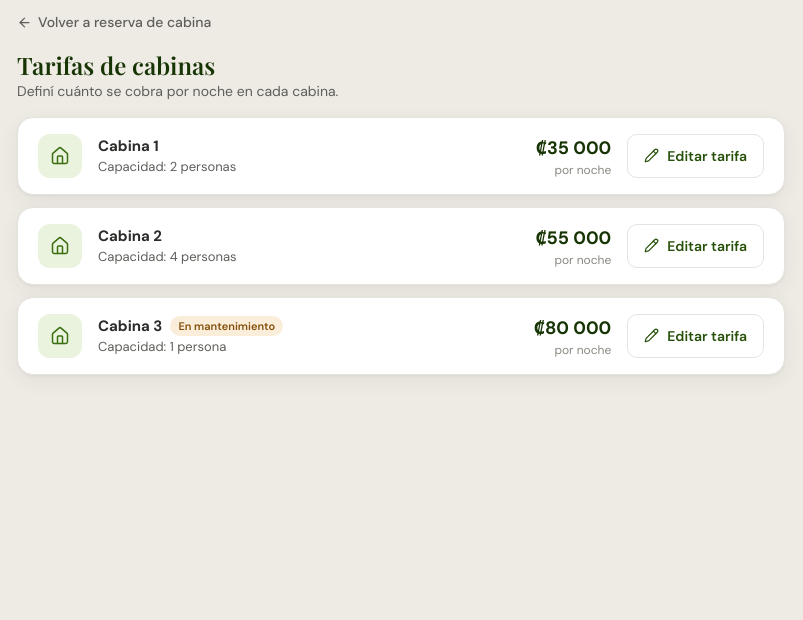
it: HU-128 pantalla Tarifas de cabinas › CA-2: si el backend rechaza la tarifa (422), el mensaje aparece en el campo y se conserva lo escrito
This screenshot has width=803, height=620.
Click the button "Editar tarifa" next to "₡55 000" at [696, 246], box x1=627 y1=224 x2=764 y2=268
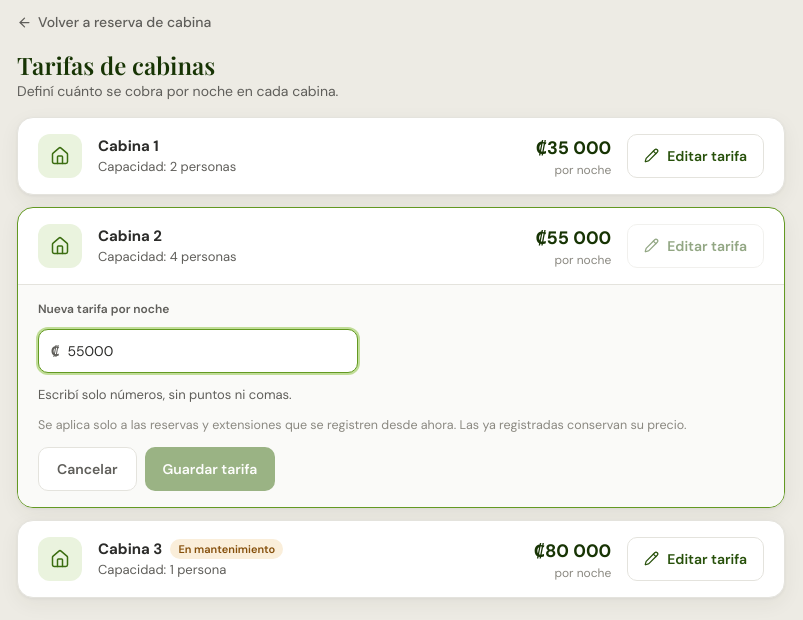
Replace the text in the field labelled "Nueva tarifa por noche" with "70000" at [206, 350], box x1=67 y1=340 x2=345 y2=360
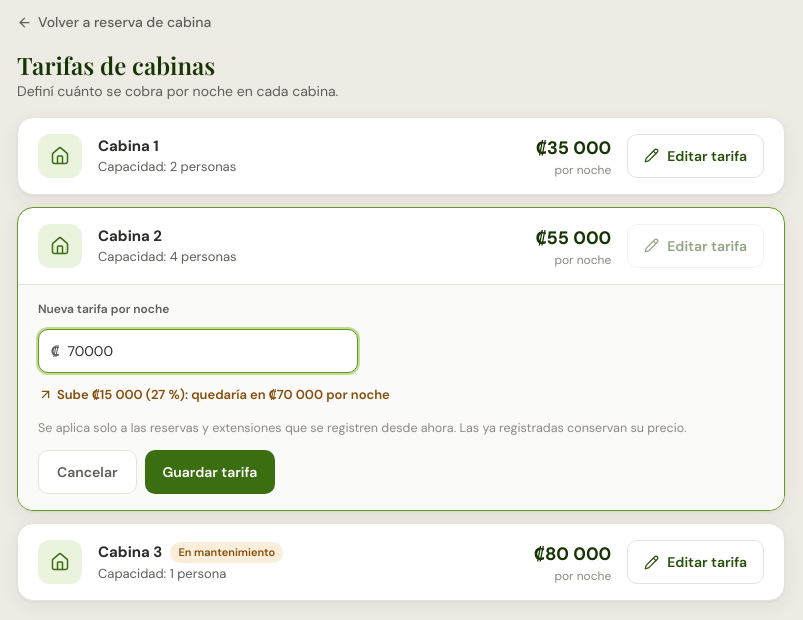
Click the button "Guardar tarifa" at [210, 472], box x1=144 y1=450 x2=275 y2=494
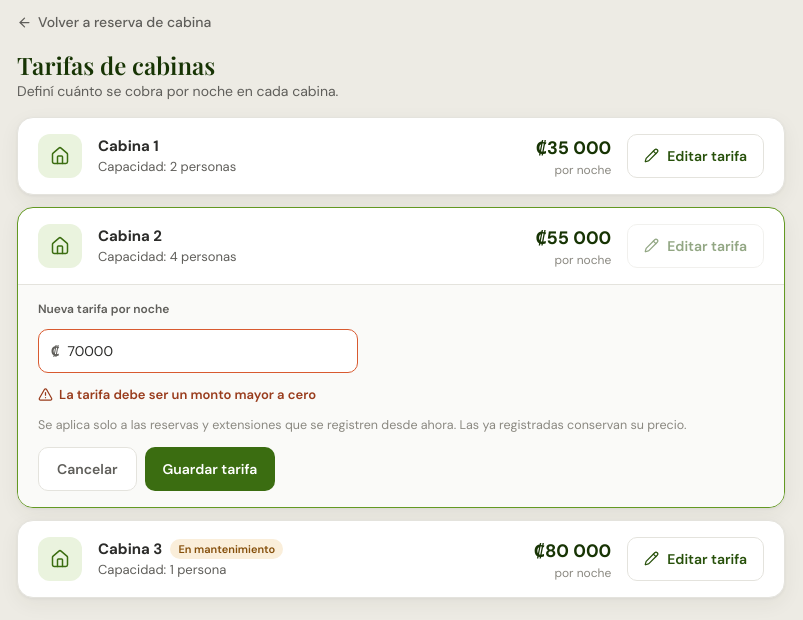
Now the message reads "La tarifa debe ser un monto mayor a cero", box x1=59 y1=386 x2=316 y2=402
